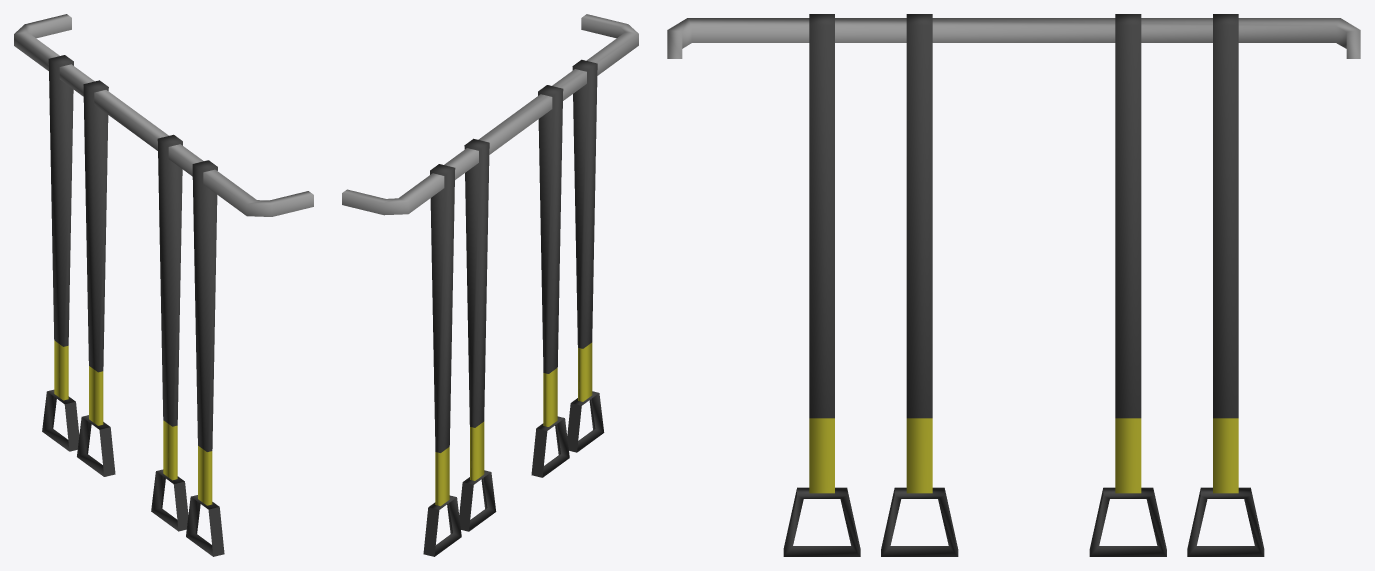
The model's file is interior_k_005.fbx.
3 renders of one model, left to right at view 1: azimuth 30°, elevation 25°; view 2: azimuth 150°, elevation 25°; view 3: azimuth 270°, elevation 25°, orthographic. The views are drawn at different scales.
Parts seen in each view (by area): view 1: interior_k_005; view 2: interior_k_005; view 3: interior_k_005.
Boxes of the visible parts, bbox=[...] form: interior_k_005: bbox=[14, 14, 313, 556]; interior_k_005: bbox=[342, 14, 638, 556]; interior_k_005: bbox=[667, 14, 1360, 556].
Bounding box in the file's own units: 22.83 × 135 × 159.
